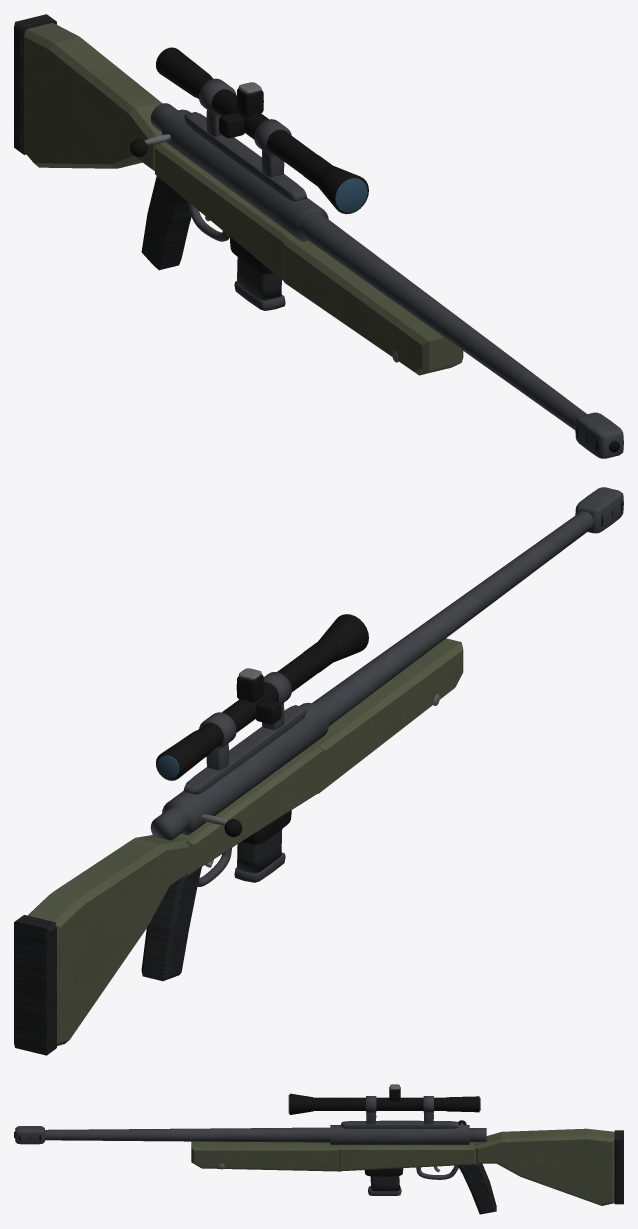
Rendered from Sniper.glb.
The picture shows the model from 3 angles, top to bottom: view 1: azimuth 30°, elevation 25°; view 2: azimuth 150°, elevation 25°; view 3: azimuth 270°, elevation 25°; orthographic projection. The views are drawn at different scales.
Visible parts, largest first — view 1: Body, Magazine, ChargingHandle; view 2: Body, Magazine, ChargingHandle; view 3: Body, Magazine, ChargingHandle.
Boxes of the visible parts, x1,y1,x2,y2 form: Body: [14, 14, 623, 458]; Magazine: [234, 257, 285, 310]; ChargingHandle: [129, 103, 177, 157]; Body: [14, 487, 623, 1055]; Magazine: [234, 829, 285, 882]; ChargingHandle: [150, 805, 242, 840]; Body: [14, 1084, 623, 1214]; Magazine: [368, 1176, 401, 1195]; ChargingHandle: [458, 1120, 486, 1142].
Size of the model in its own units: 0.274 by 0.818 by 3.59.
1 material, 1 textured.
